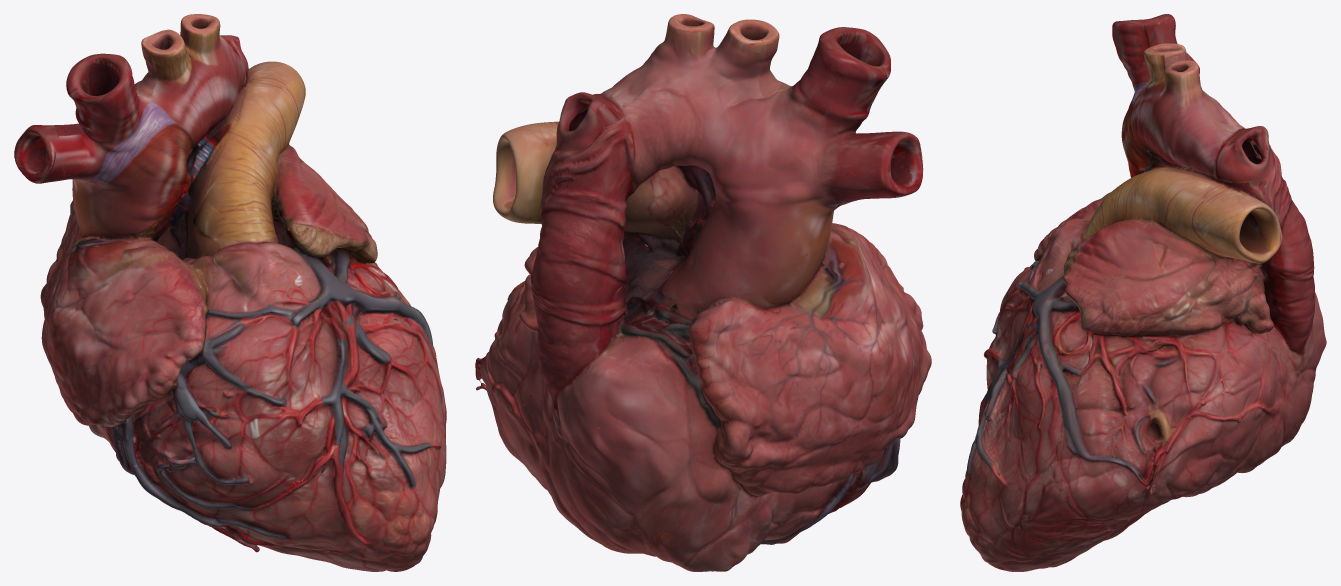
The model's file is Meshy_AI_Anatomical_Human_Hear_0518182611_texture.fbx.
The picture shows the model from 3 angles, left to right: view 1: azimuth 30°, elevation 25°; view 2: azimuth 150°, elevation 25°; view 3: azimuth 270°, elevation 25°; orthographic projection. The views are drawn at different scales.
Visible parts, largest first — view 1: Mesh_0; view 2: Mesh_0; view 3: Mesh_0.
Part boxes in pixels (x1,y1,x2,y2): Mesh_0: [14, 14, 446, 571]; Mesh_0: [475, 14, 931, 571]; Mesh_0: [960, 14, 1326, 571].
Bounding box in the file's own units: 158 × 200 × 144.
1 material, 1 textured.
